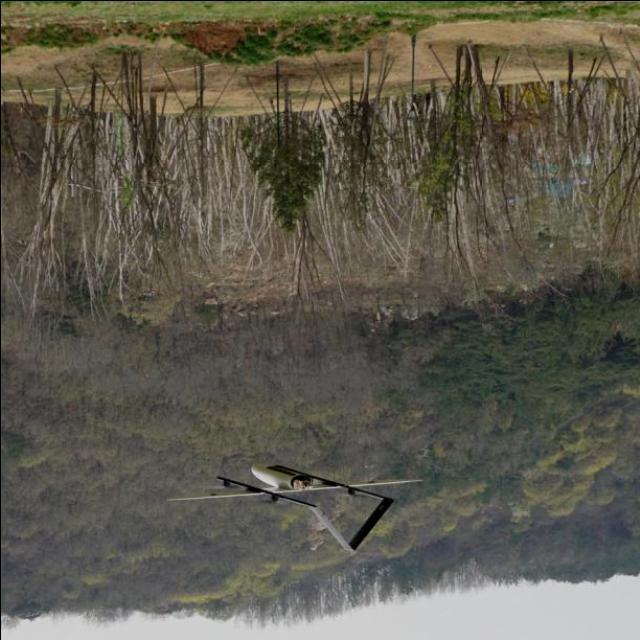plane: (163, 461, 423, 554)
